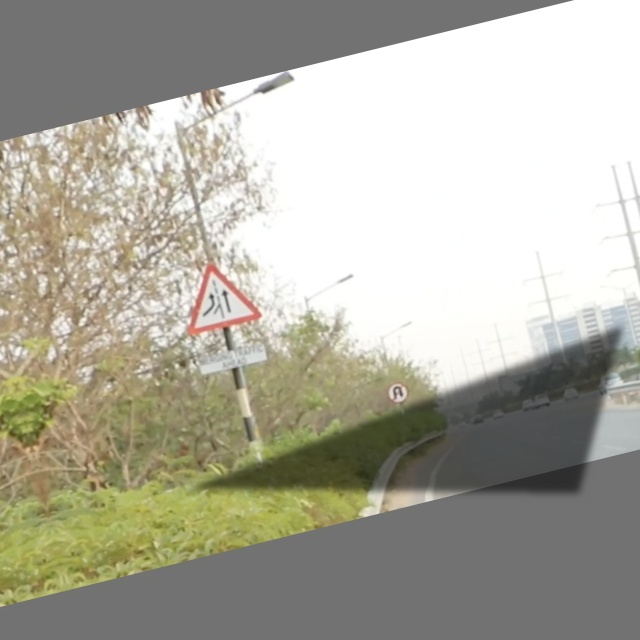Merge_Traffic_Ahead: (165, 243, 267, 341)
